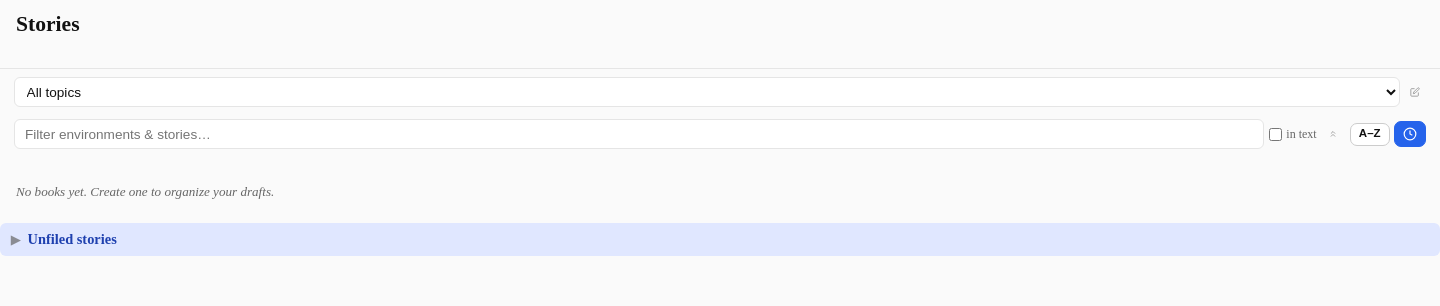
it: SideBarComponent › rendering › renders the unassigned block for chats without a project
Step 1. Click the button with class "expand-btn" → point(16, 240), box top-left (5, 229), bottom-right (27, 251)
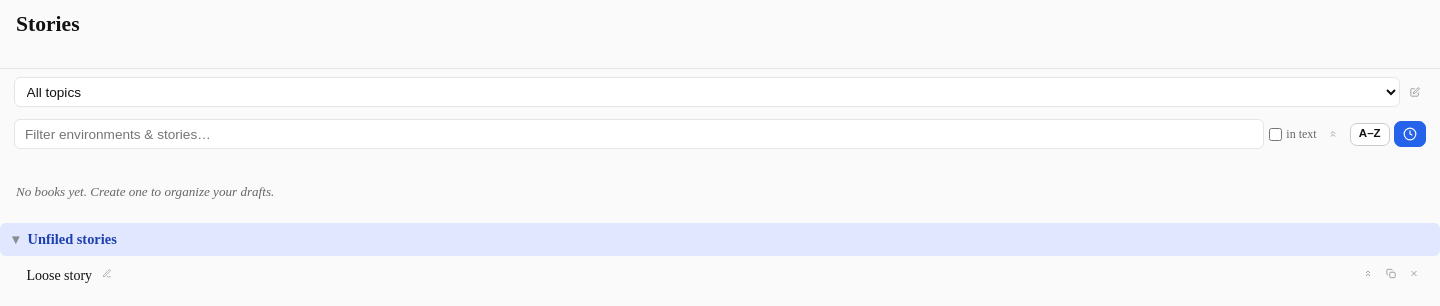
Check: the element with class "chat-item" is shown, box top-left (18, 257), bottom-right (1434, 290)
